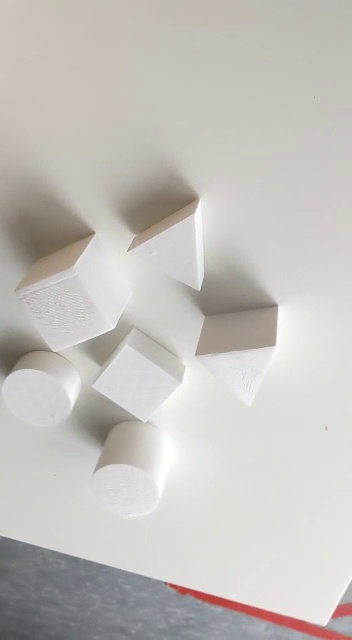Clyinder_short: (1, 349, 81, 429)
Cube: (14, 226, 138, 354)
Cube_short: (90, 324, 187, 425)
Cylinder: (90, 417, 171, 521)
Triangle: (192, 303, 285, 411)
Triangle_short: (130, 197, 208, 292)
